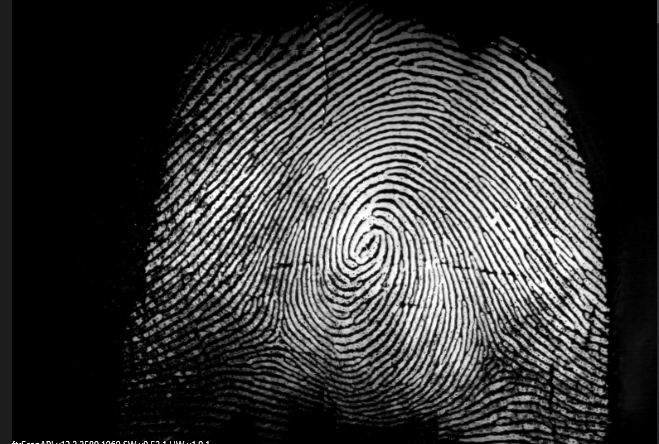nucelo: (347, 222, 387, 266)
verticilo: (479, 342, 510, 373), (262, 325, 294, 348)
